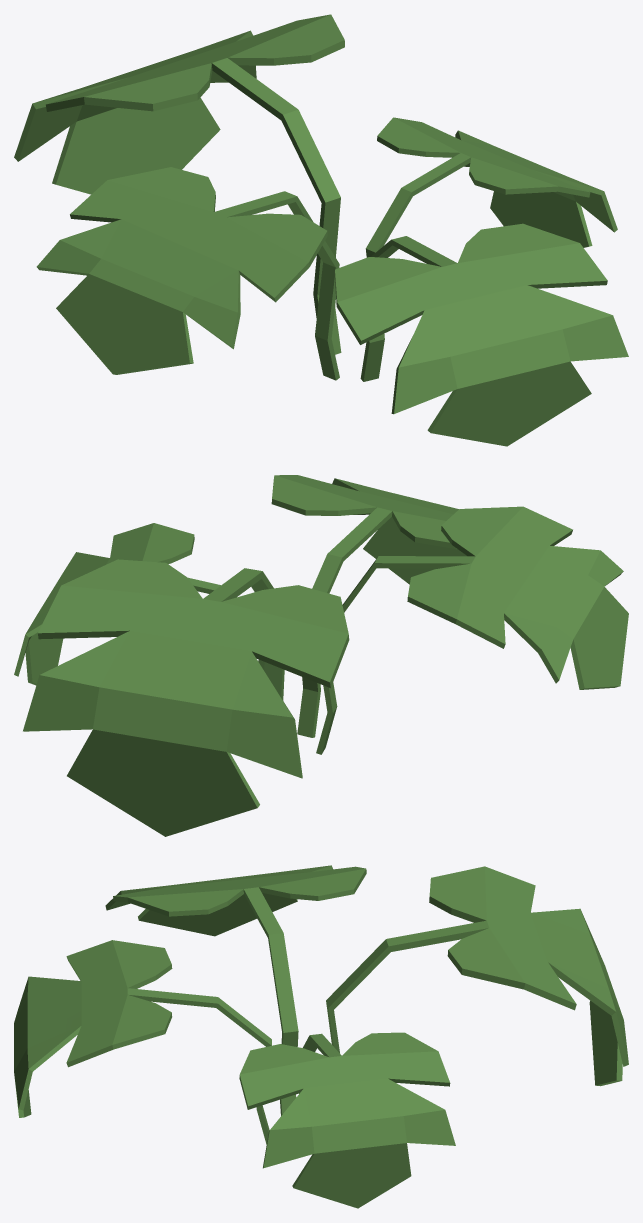
Rendered from fougere_large.glb.
3 renders of one model, top to bottom at view 1: azimuth 30°, elevation 25°; view 2: azimuth 150°, elevation 25°; view 3: azimuth 270°, elevation 25°, orthographic. The views are drawn at different scales.
Parts seen in each view (by area): view 1: fougere_large; view 2: fougere_large; view 3: fougere_large.
Part boxes in pixels (<box>): fougere_large: <box>14,14,628,446</box>; fougere_large: <box>14,475,628,836</box>; fougere_large: <box>14,865,628,1208</box>.
Size of the model in its own units: 2.13 by 0.9 by 2.35.
